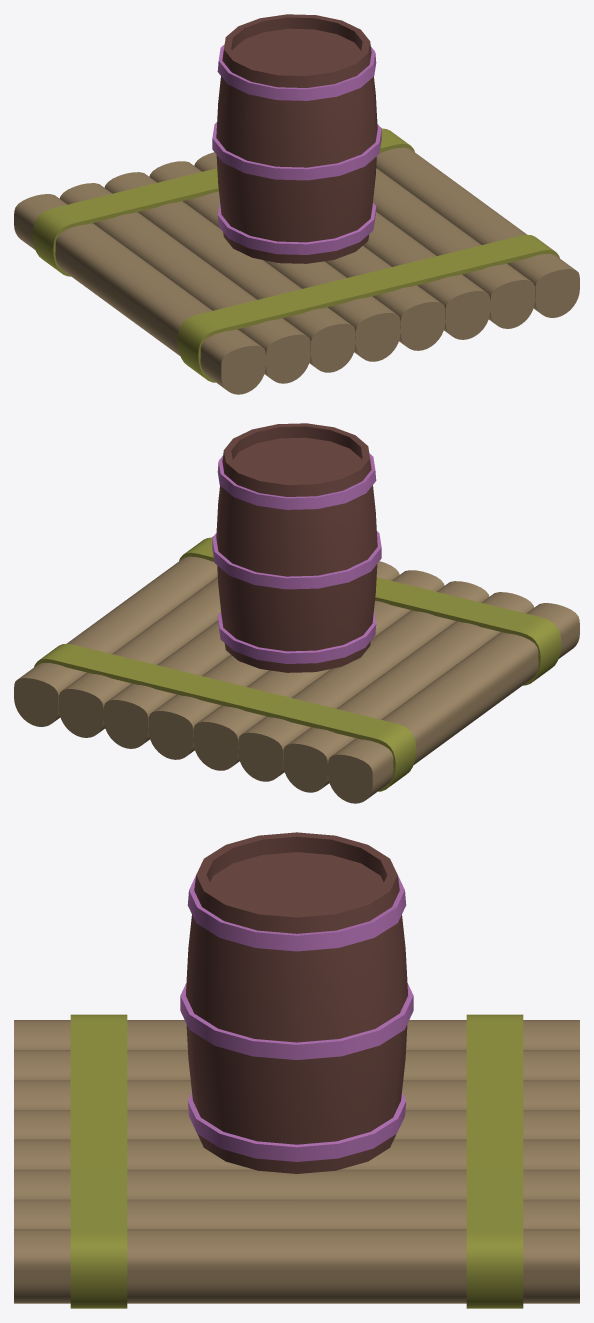
The model's file is StorageRaft.fbx.
3 views of the same model, one above another, from view 1: azimuth 30°, elevation 25°; view 2: azimuth 150°, elevation 25°; view 3: azimuth 270°, elevation 25° (orthographic). The views are drawn at different scales.
Parts seen in each view (by area): view 1: StorageTile, Barrel, RaftBands.002; view 2: StorageTile, Barrel, RaftBands.002; view 3: StorageTile, Barrel, RaftBands.002.
Part boxes in pixels (box(x1,y1,x2,y2)): StorageTile: box(14, 127, 579, 394); Barrel: box(212, 14, 381, 263); RaftBands.002: box(32, 128, 559, 382); StorageTile: box(14, 536, 579, 803); Barrel: box(212, 423, 381, 672); RaftBands.002: box(34, 537, 561, 791); StorageTile: box(14, 1020, 579, 1303); Barrel: box(180, 832, 413, 1173); RaftBands.002: box(70, 1014, 523, 1308).
Size of the model in its own units: 101 by 63.41 by 100.
